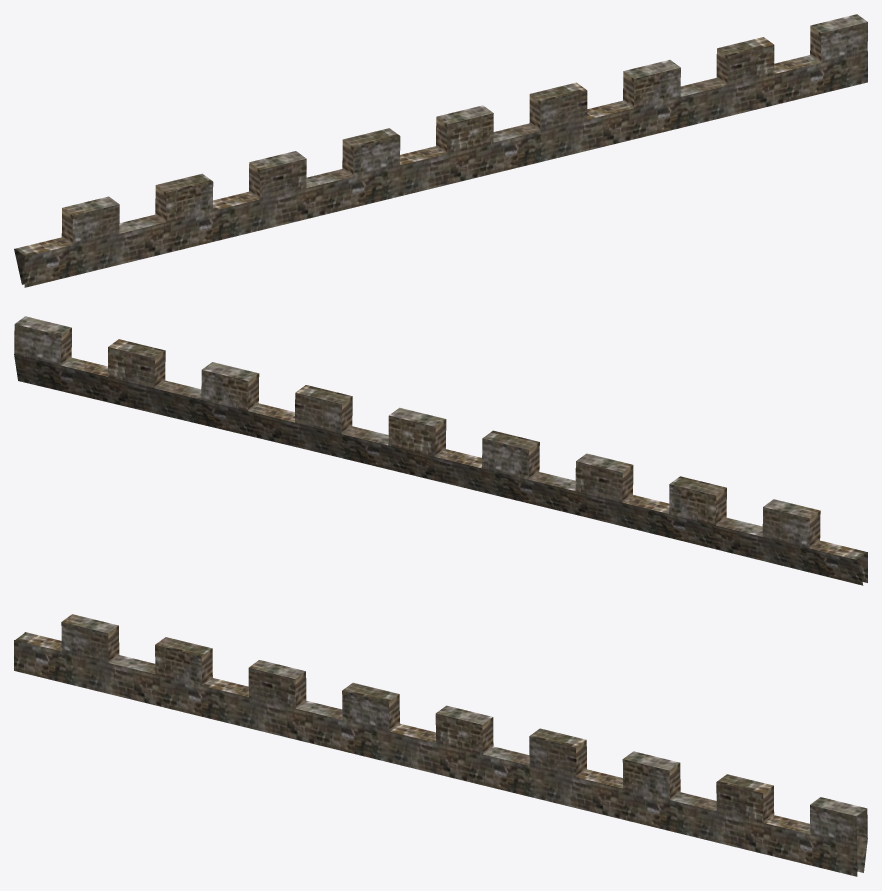
The picture shows the model from 3 angles, top to bottom: view 1: azimuth 30°, elevation 25°; view 2: azimuth 150°, elevation 25°; view 3: azimuth 330°, elevation 25°; orthographic projection.
Parts seen in each view (by area): view 1: Object71; view 2: Object71; view 3: Object71.
Part boxes in pixels (x1,y1,x2,y2): Object71: [14, 14, 867, 287]; Object71: [14, 316, 867, 585]; Object71: [14, 614, 867, 876].
Size of the model in its own units: 512 by 35.24 by 12.02.
